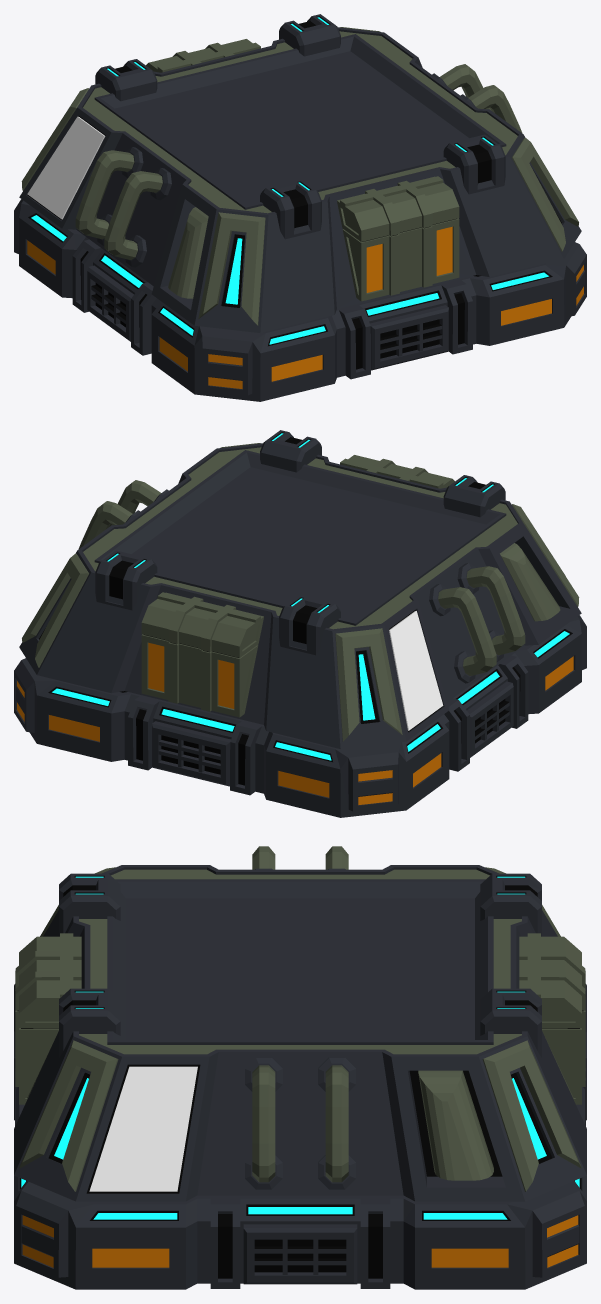
Rendered from SM_Base_Turret_T3.fbx.
3 views of the same model, one above another, from view 1: azimuth 30°, elevation 25°; view 2: azimuth 150°, elevation 25°; view 3: azimuth 270°, elevation 25° (orthographic). The views are drawn at different scales.
Visible parts, largest first — view 1: SM_Base_Turret_T3; view 2: SM_Base_Turret_T3; view 3: SM_Base_Turret_T3.
Part boxes in pixels (x1,y1,x2,y2): SM_Base_Turret_T3: (14,14,586,401); SM_Base_Turret_T3: (14,430,586,817); SM_Base_Turret_T3: (14,846,586,1289).
Size of the model in its own units: 108 by 43.59 by 100.
